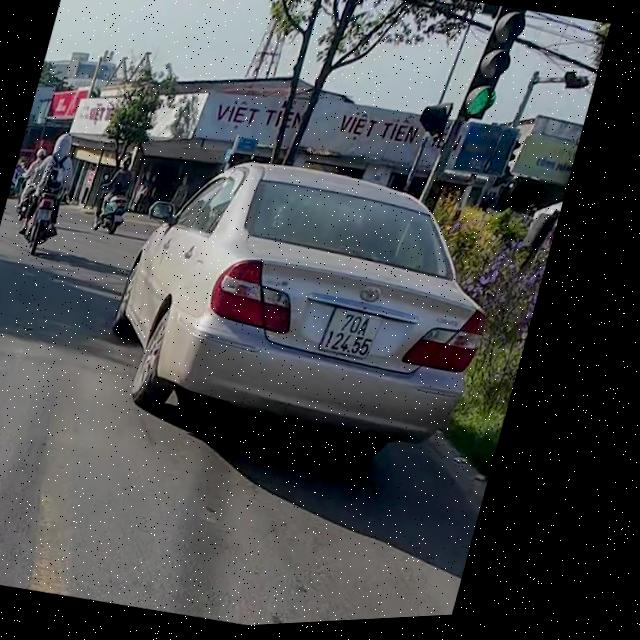car: (77, 119, 527, 501)
motorcycle: (11, 190, 65, 258), (87, 189, 132, 237)
plate: (311, 294, 391, 368)
